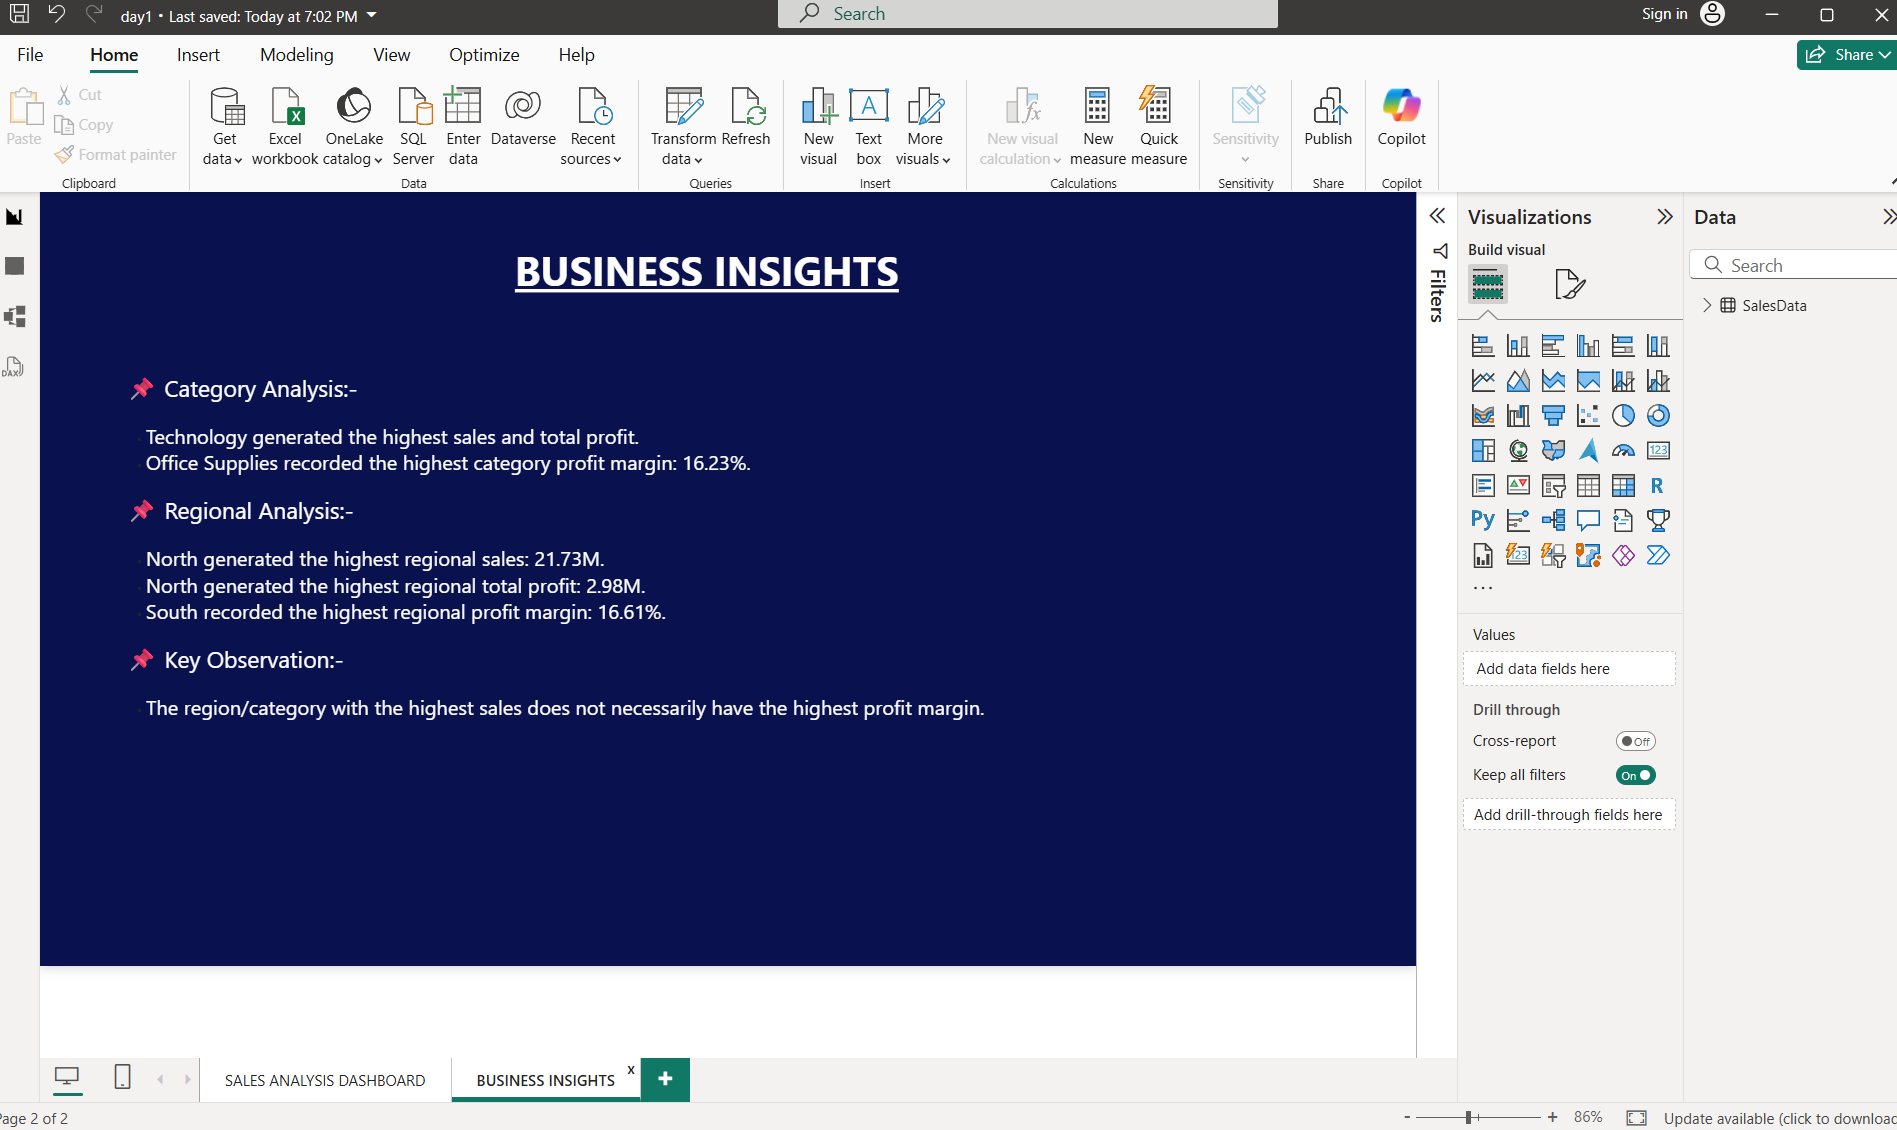

Layout of this report page (visuals, bound fields, positions):
{"tool":"powerbi","page":{"name":"BUSINESS INSIGHTS","canvas":[1280,720],"ordinal":1},"visuals":[{"type":"textbox","box":[75.6,43,1089.5,567.4],"z":0}]}

Visuals, with their boxes on the page's 1280x720 design canvas (x1, y1, x2, y2). These are canvas units, not pixel positions in the 1897x1130 screenshot, which may show the page scaled, cropped or inside an application window:
textbox: (76, 43, 1165, 610)
